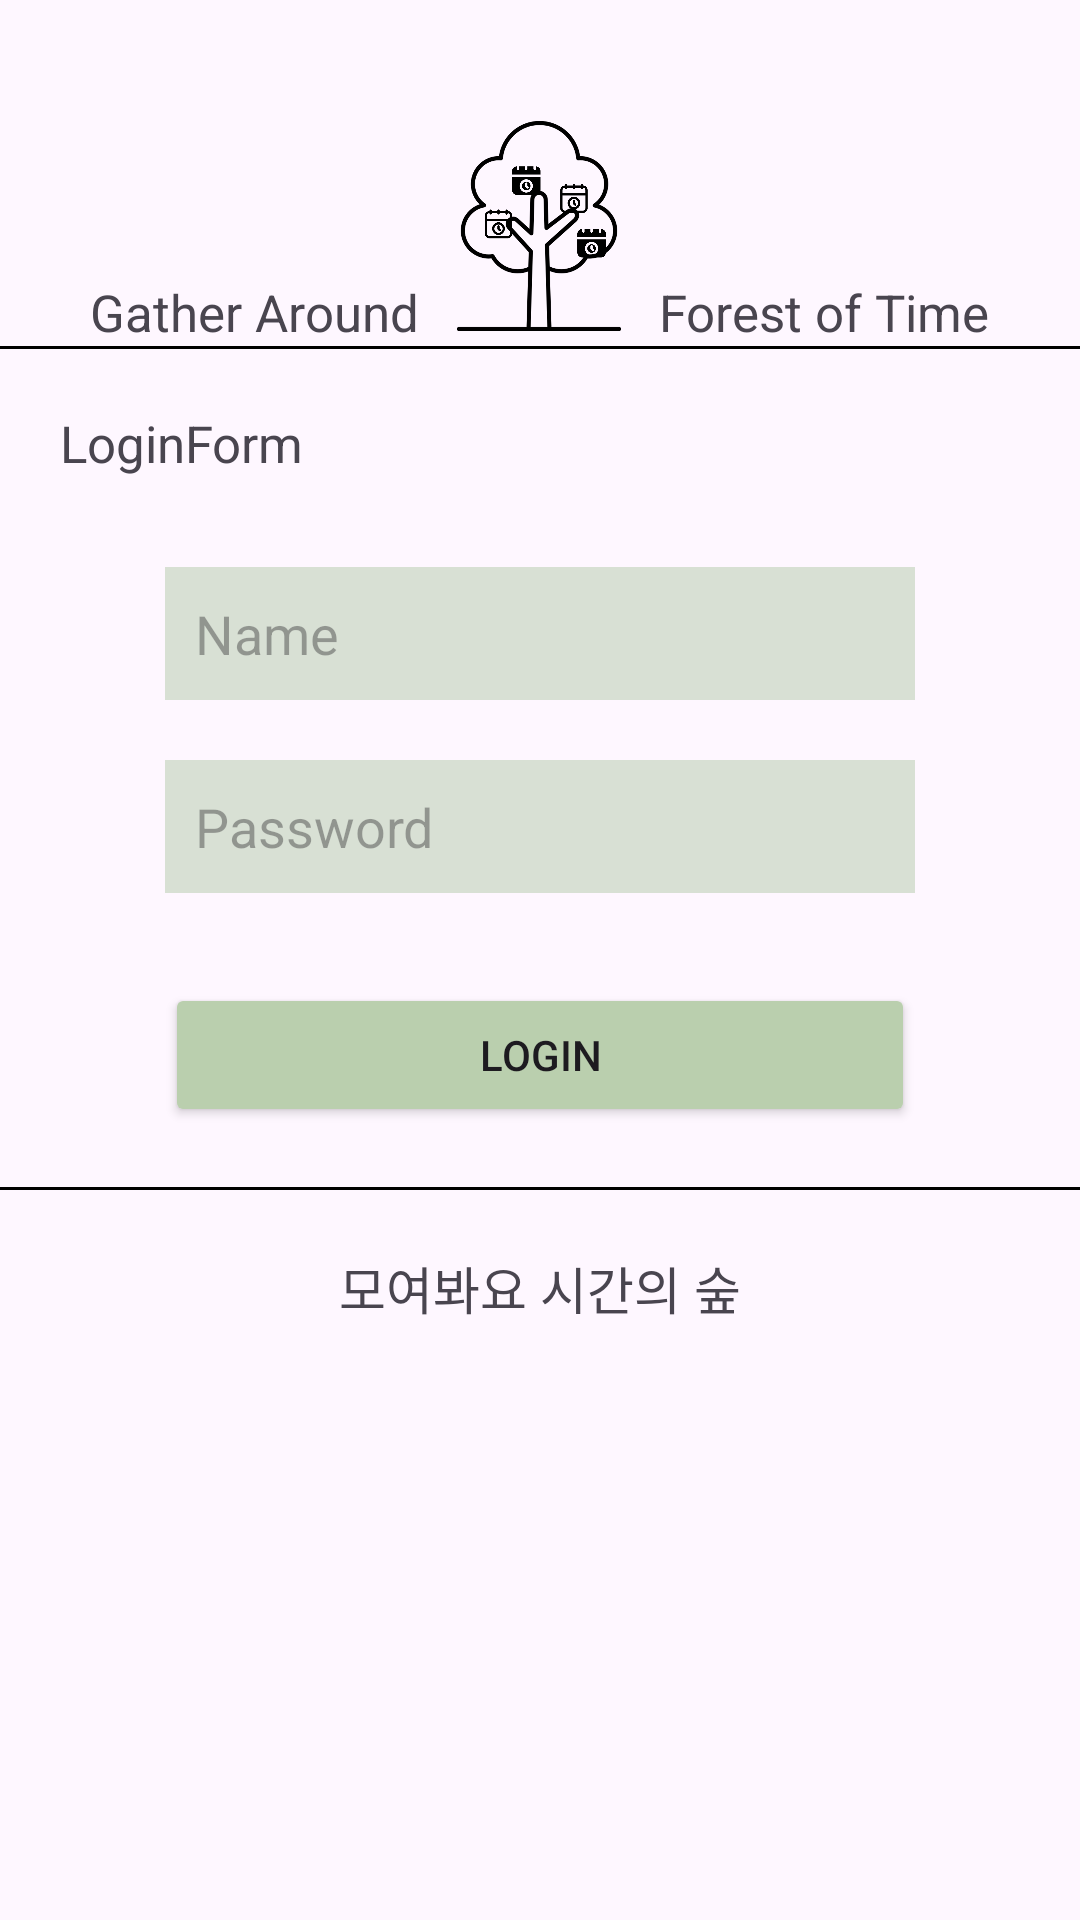

Locate icon controls on the screen. Image size 1080px x 1920px, boxes as (x1, y1, x2, y2).
tree: (457, 121, 621, 331)
